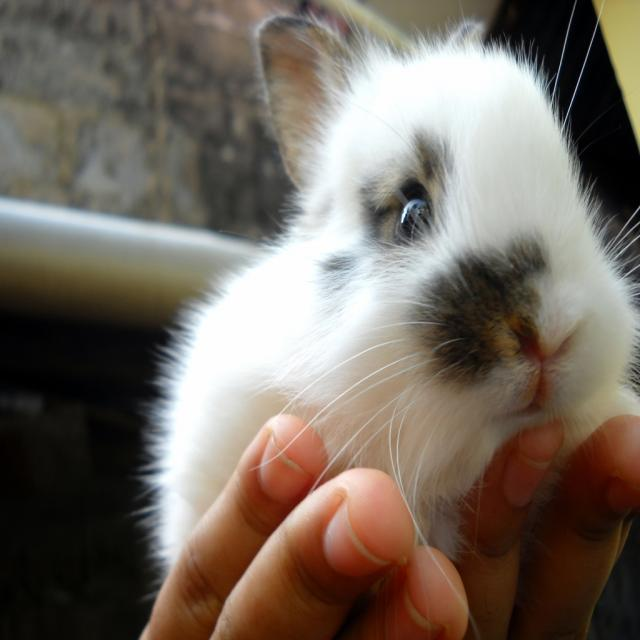rat: (146, 0, 639, 591)
